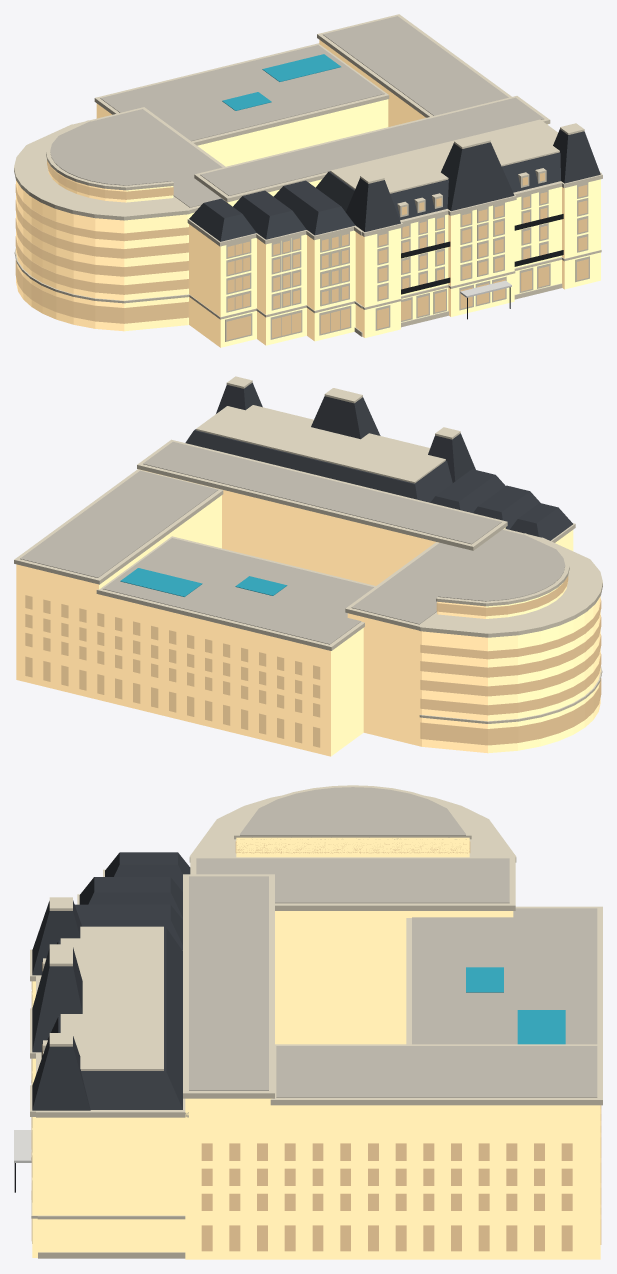
File: mon_hotel_paris.glb
3 renders of one model, top to bottom at view 1: azimuth 30°, elevation 25°; view 2: azimuth 150°, elevation 25°; view 3: azimuth 270°, elevation 25°, orthographic. The views are drawn at different scales.
Parts seen in each view (by area): view 1: monaco-hotel-de-paris; view 2: monaco-hotel-de-paris; view 3: monaco-hotel-de-paris.
Part boxes in pixels (left/top/right/bottom): monaco-hotel-de-paris: left=14, top=14, right=602, bottom=347; monaco-hotel-de-paris: left=14, top=376, right=602, bottom=756; monaco-hotel-de-paris: left=14, top=785, right=602, bottom=1259.
Size of the model in its own units: 101 by 33.9 by 80.8.
